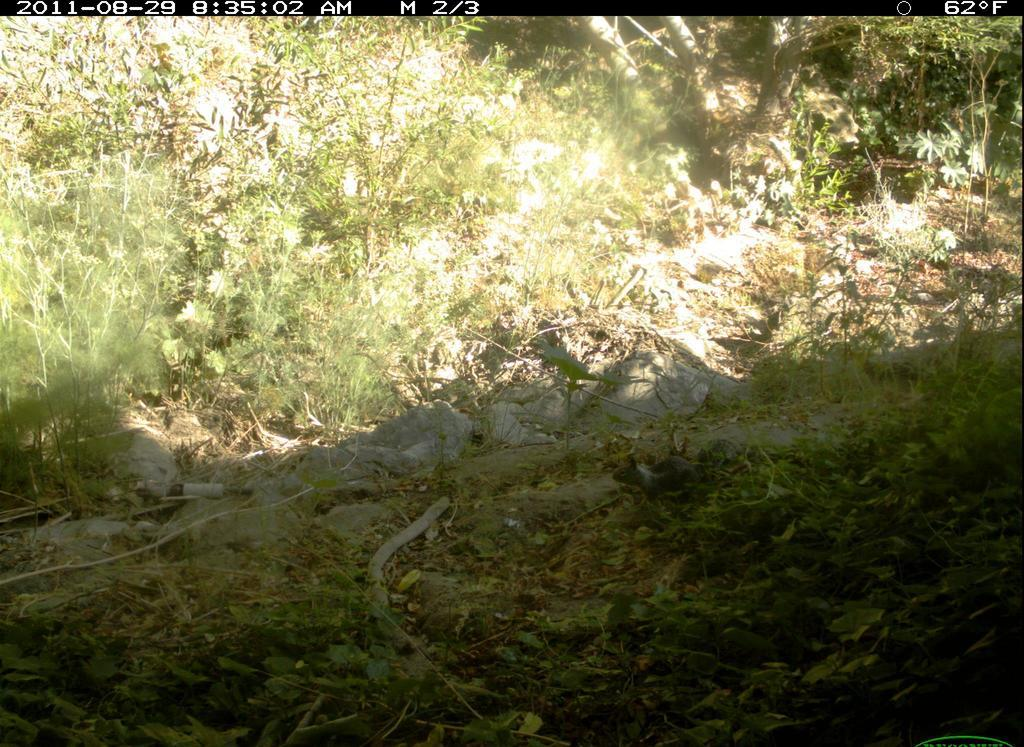squirrel: (610, 450, 715, 507)
